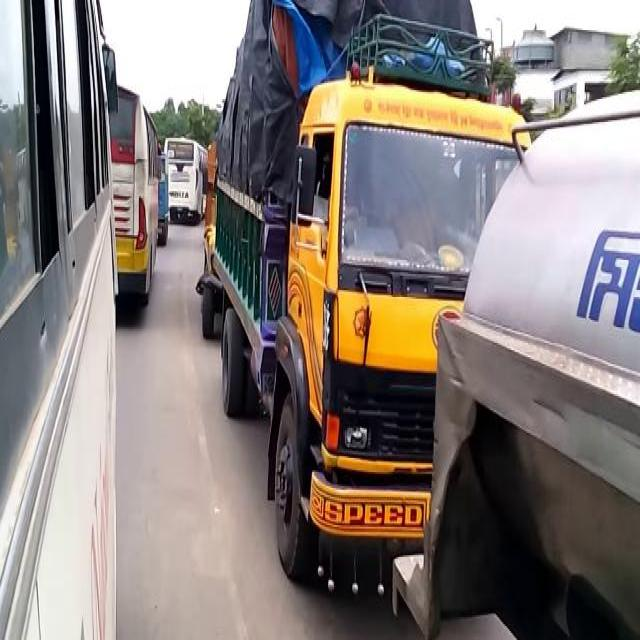18: (214, 4, 532, 584)
Truck: (0, 3, 120, 633), (109, 81, 161, 316), (162, 132, 208, 220)
